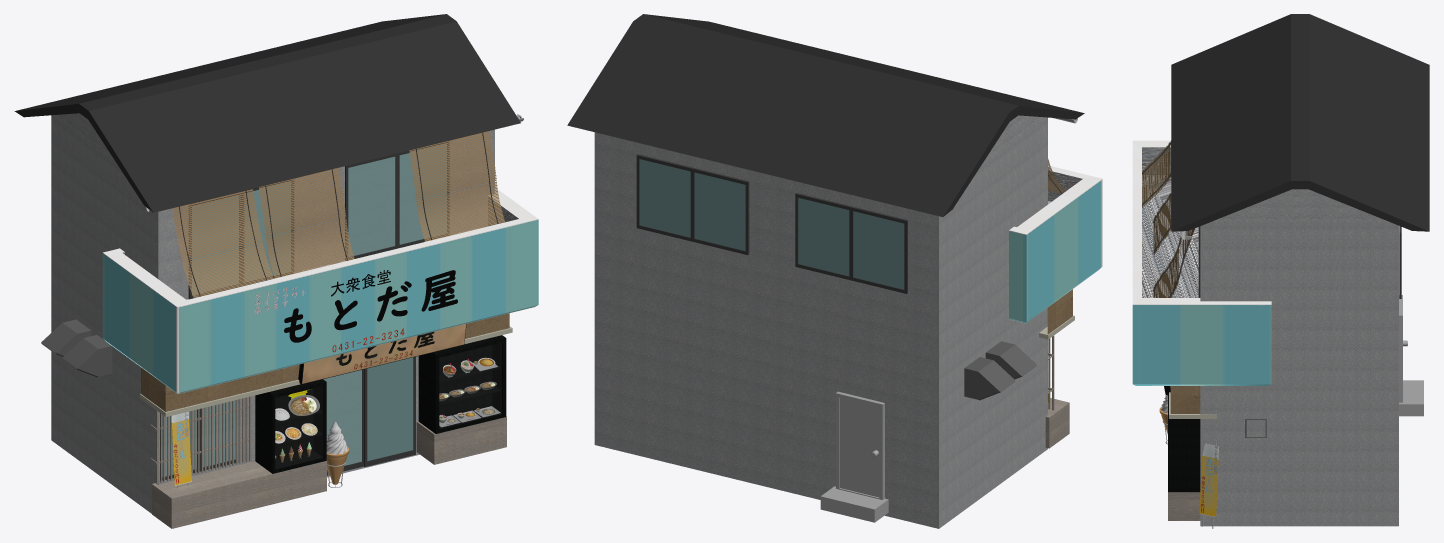
The model's file is restaurant_ikeda_000_high.fbx.
3 views of the same model, side by side, from view 1: azimuth 30°, elevation 25°; view 2: azimuth 150°, elevation 25°; view 3: azimuth 270°, elevation 25° (orthographic). The views are drawn at different scales.
Parts seen in each view (by area): view 1: pCube192; view 2: pCube192; view 3: pCube192.
Part boxes in pixels (box(x1,y1,x2,y2)): pCube192: box(14, 14, 538, 528); pCube192: box(567, 14, 1102, 528); pCube192: box(1132, 14, 1429, 528).
Size of the model in its own units: 9.1 by 8.38 by 6.46.
